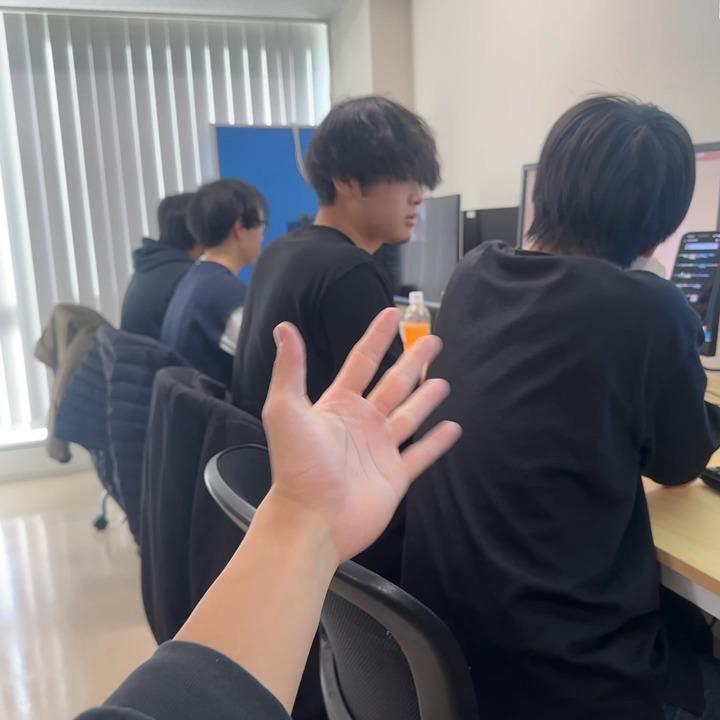without_gloves: (156, 201, 544, 634)
